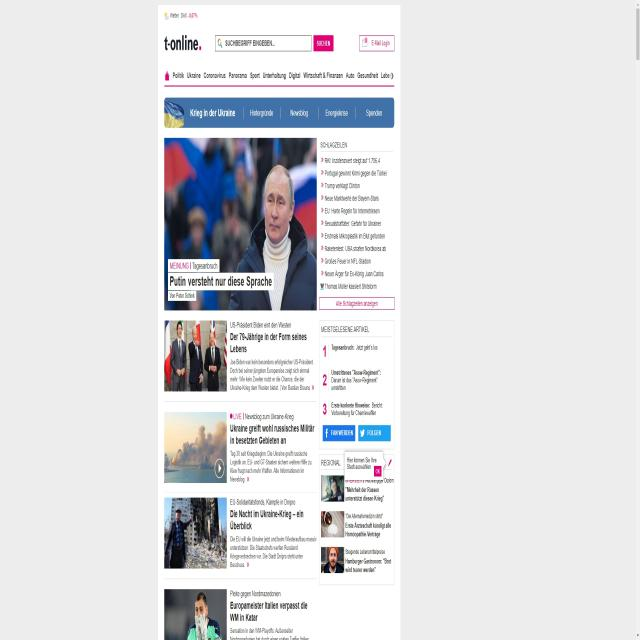search: (214, 36, 334, 54)
side-panel: (317, 319, 393, 593)
tab-bar: (164, 95, 394, 129), (162, 63, 395, 88)
